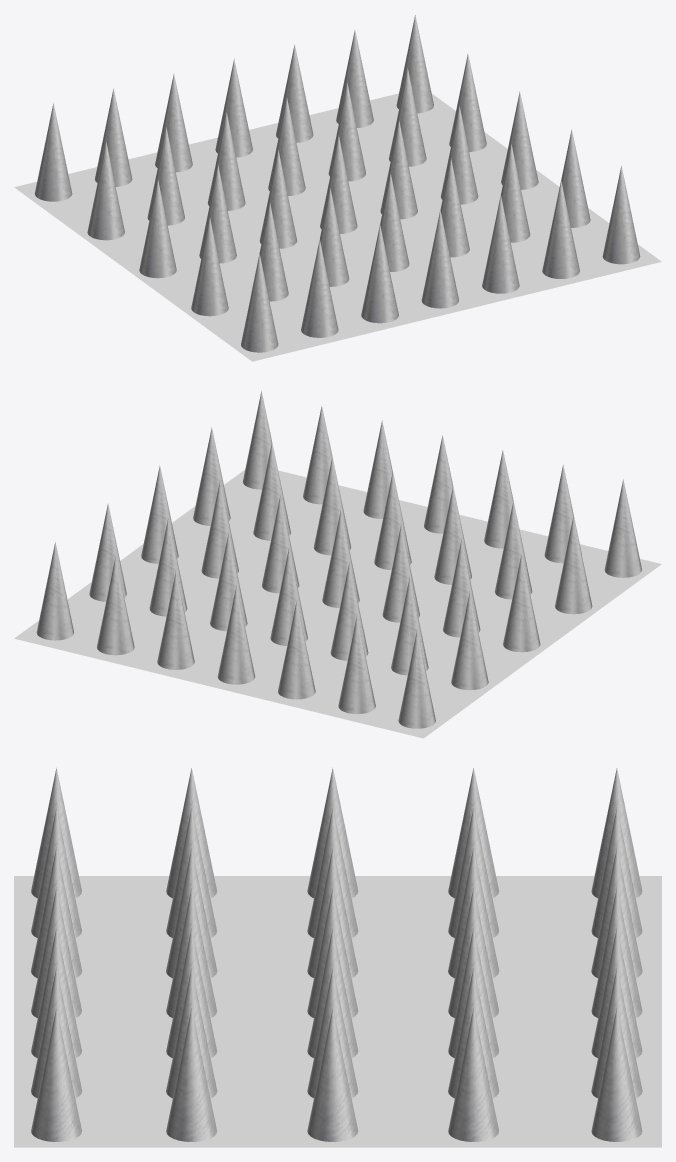
Rendered from pinchos.FBX.
3 renders of one model, top to bottom at view 1: azimuth 30°, elevation 25°; view 2: azimuth 150°, elevation 25°; view 3: azimuth 270°, elevation 25°, orthographic. The views are drawn at different scales.
Visible parts, largest first — view 1: Cone067, Plane001; view 2: Cone067, Plane001; view 3: Plane001, Cone067.
Boxes of the visible parts, x1,y1,x2,y2 form: Cone067: (34,15,640,352); Plane001: (14,93,661,361); Cone067: (36,391,641,728); Plane001: (14,469,661,738); Plane001: (14,876,661,1147); Cone067: (31,767,642,1141).
Bounding box in the file's own units: 33.45 × 33.72 × 7.13.
Materials: 3 (3 with a texture image).
